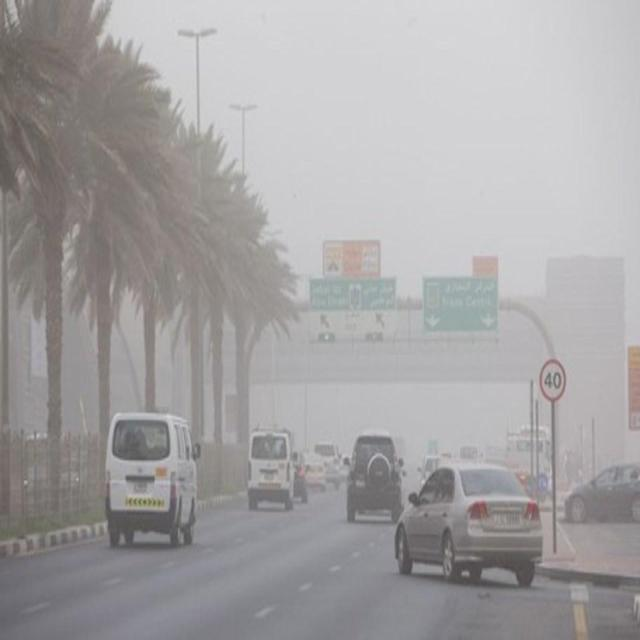Car: (392, 459, 547, 578), (343, 429, 402, 536), (564, 448, 640, 522), (486, 421, 555, 476), (316, 434, 342, 490), (297, 443, 320, 499), (420, 448, 442, 487), (307, 452, 328, 491)
Van: (149, 409, 205, 552), (246, 420, 298, 516)
